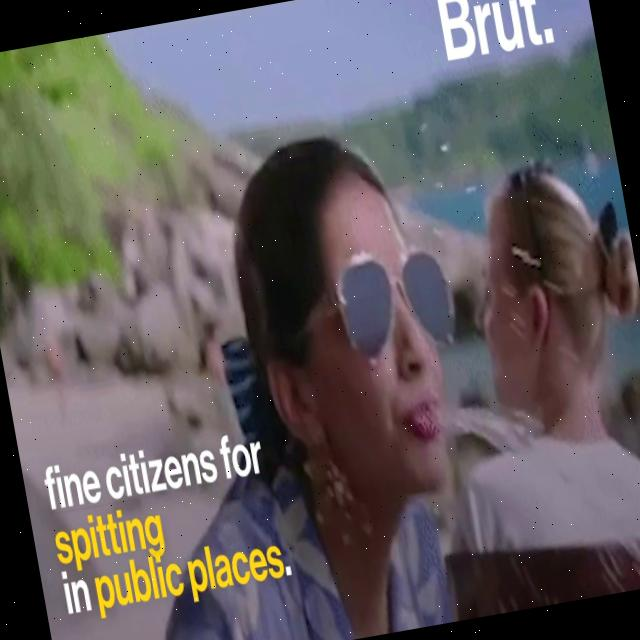spit: (376, 346, 640, 614)
